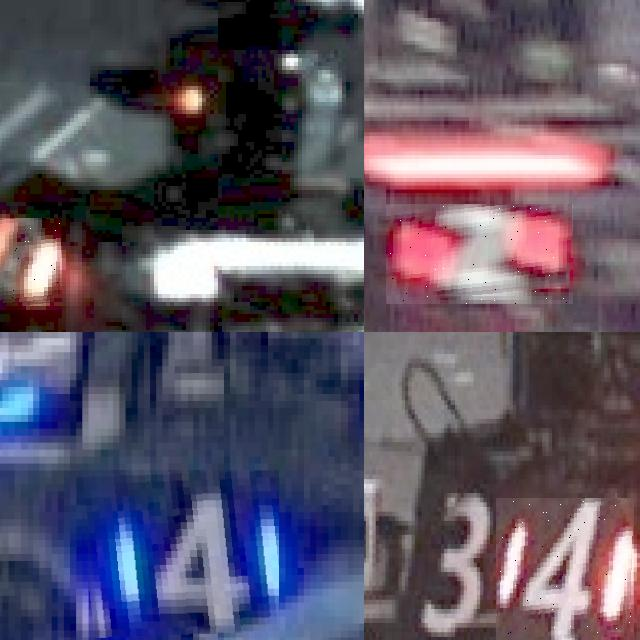B4: (77, 470, 279, 638), (0, 332, 85, 436)
R2: (386, 204, 573, 304)
R4: (496, 497, 633, 640)
Rs: (0, 218, 62, 310)
